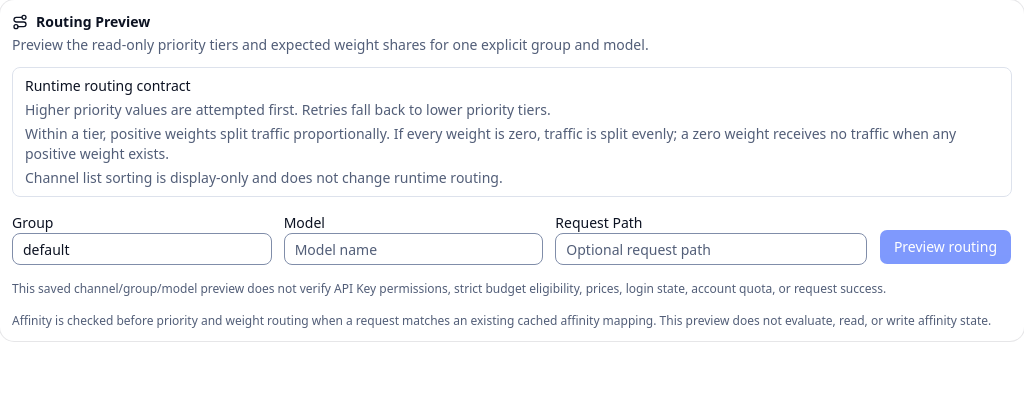
Test: channel routing preview › shows a business error instead of an empty result
Replace the text in the field named "Routing preview group" with "auto" at (142, 249), box [12,233,272,265]
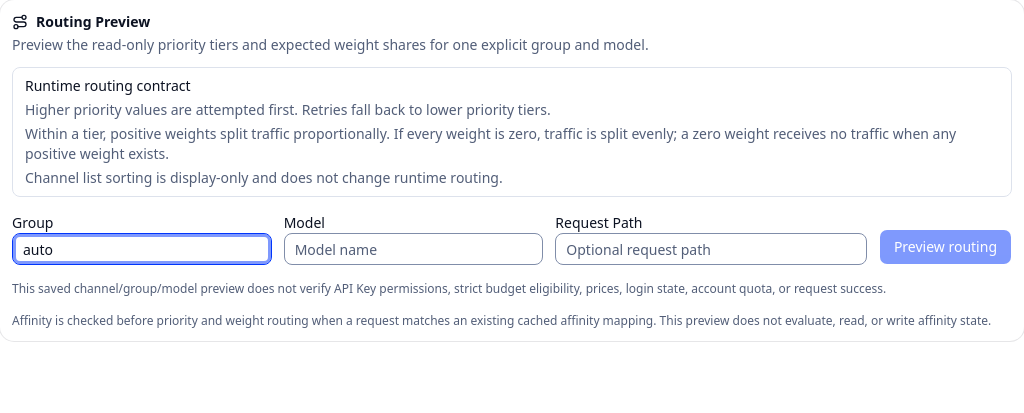
Type "gpt-test" into the field named "Routing preview model".
click(413, 249); type("gpt-test")  # box [284,233,543,265]
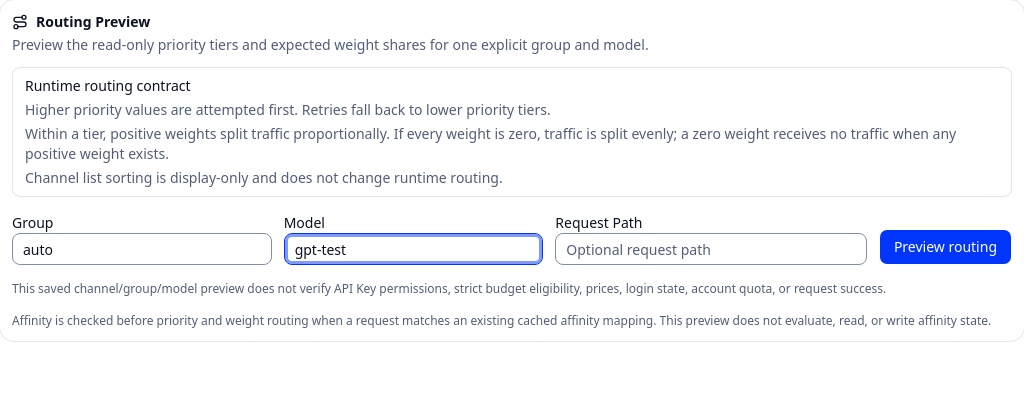
Click the button "Preview routing".
click(945, 247)  # box [879,229,1012,265]
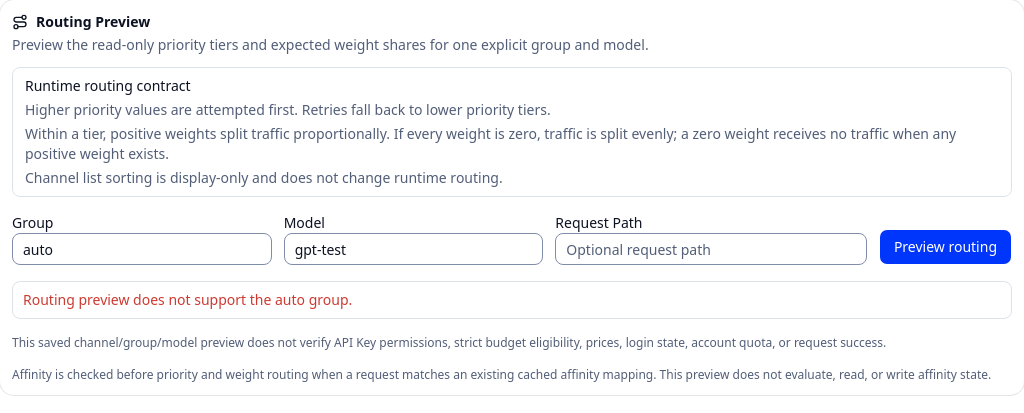
Now the text "Routing preview does not support the auto group." is shown, box [23,290,352,309]
